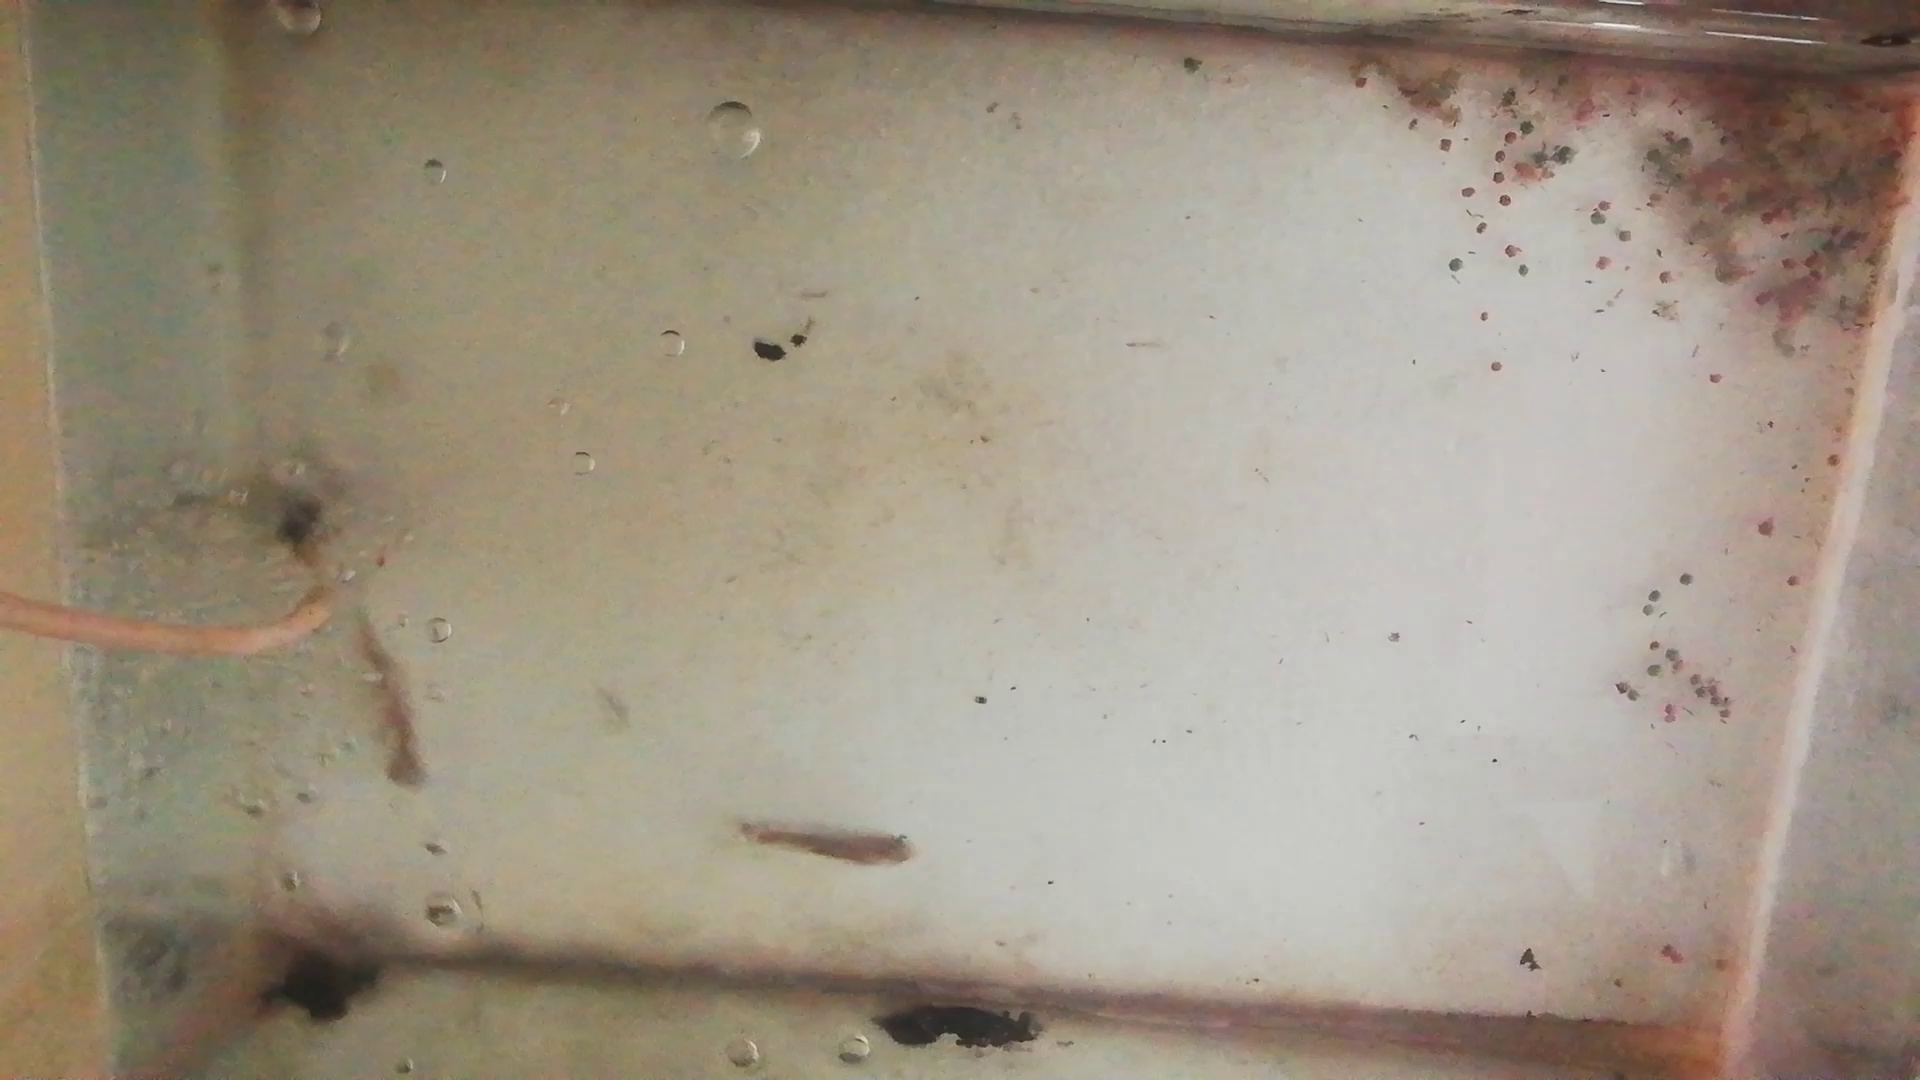fish: (345, 603, 427, 789), (732, 815, 920, 872)
